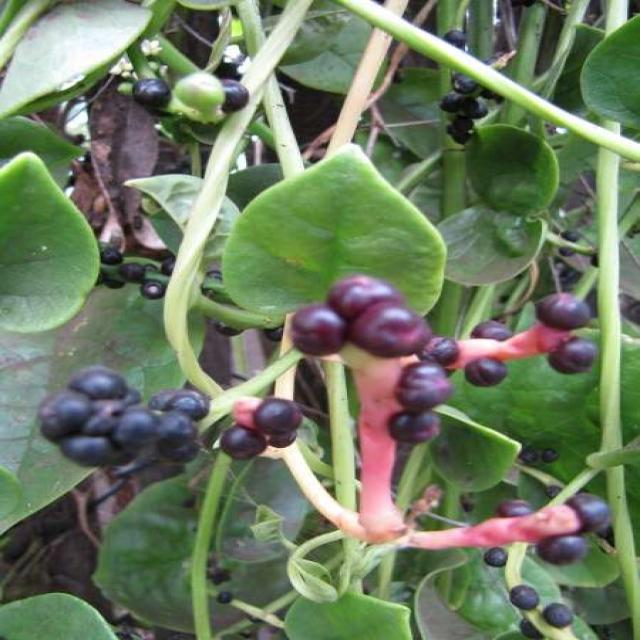Medicinal-Basale: (7, 0, 638, 629)
